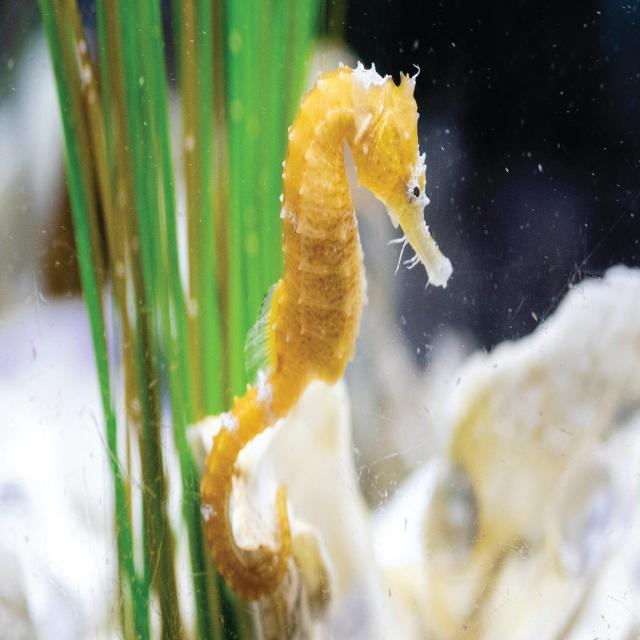seahorse: (201, 66, 452, 599)
